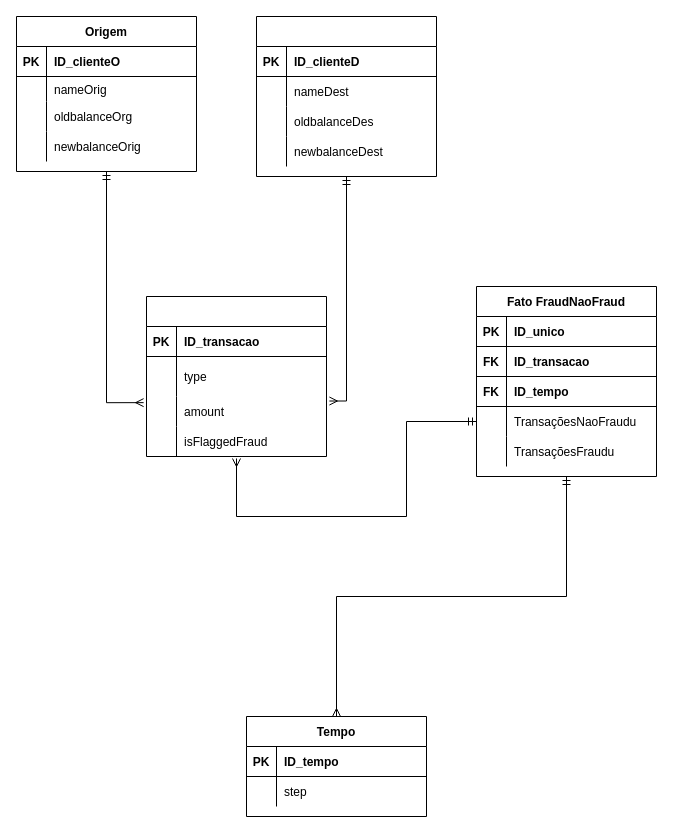
The diagram is 673 pixels wide and 833 high, and some of its shapes have lost their labels. Each missing label, with the box of its shape:
Destino: (256, 16, 436, 176)
Transação: (146, 296, 326, 456)
